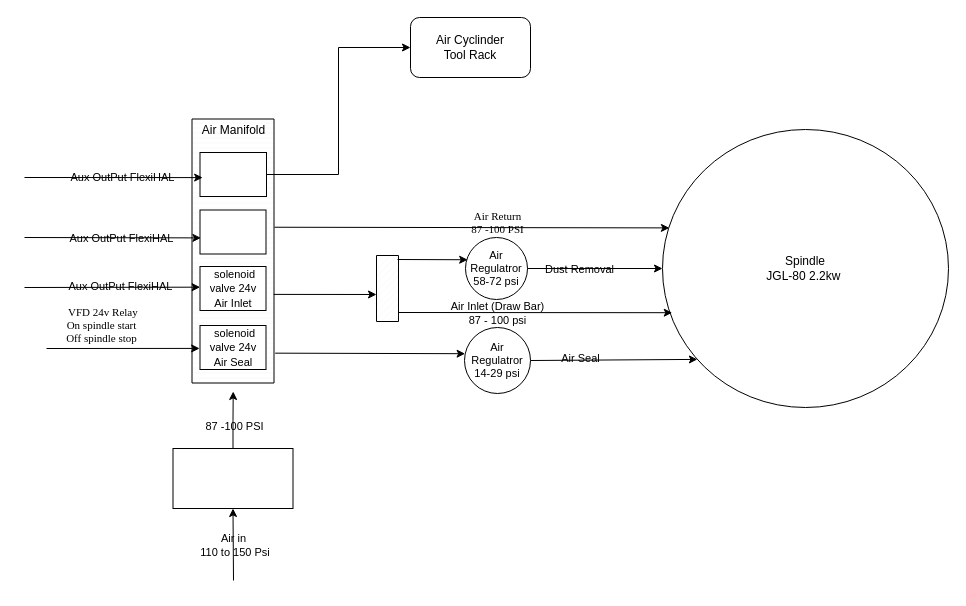
Image size: 966x606. Some labels were removed from this diagram. Each missing label, with the centre of its shape:
2way 5port 24v Air Cyclinder: the point at 232,174
Air Filter Dryer Regulator: the point at 232,478
solenoid valve 24v Air Return: the point at 232,231
